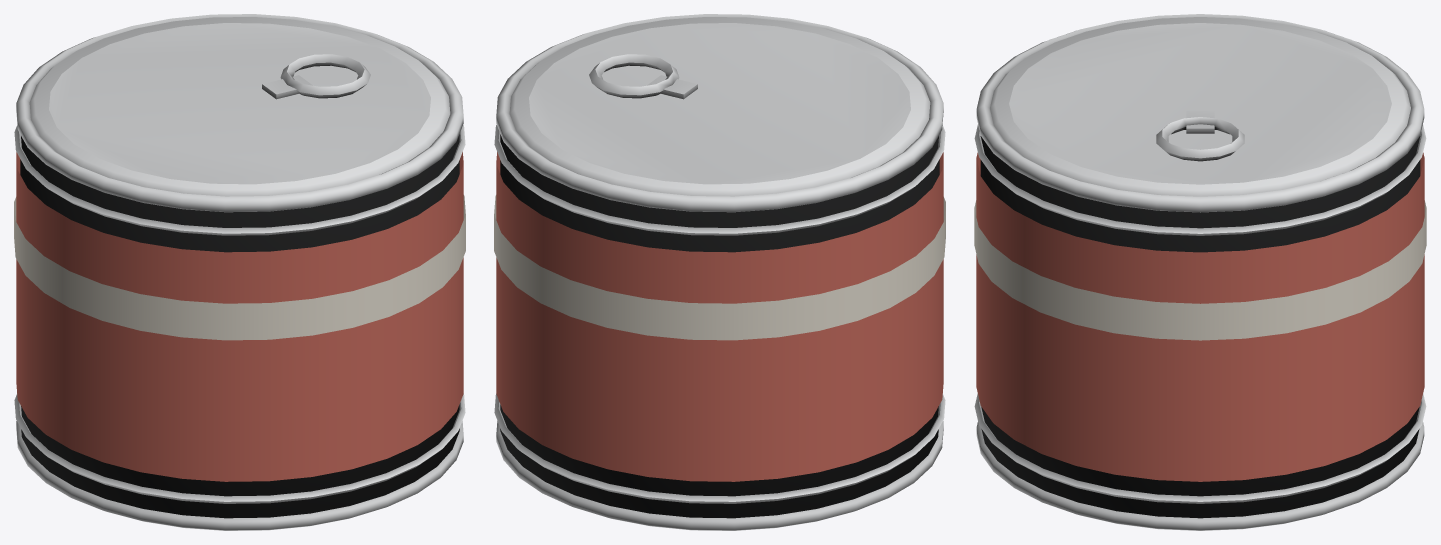
The model's file is nd_tin_soup.glb.
The picture shows the model from 3 angles, left to right: view 1: azimuth 30°, elevation 25°; view 2: azimuth 150°, elevation 25°; view 3: azimuth 270°, elevation 25°; orthographic projection.
Parts seen in each view (by area): view 1: PART; view 2: PART; view 3: PART.
Boxes of the visible parts, x1,y1,x2,y2 form: PART: (14,14,465,530); PART: (494,14,945,530); PART: (974,14,1426,530).
Bounding box in the file's own units: 0.1276 × 0.1088 × 0.1276.
